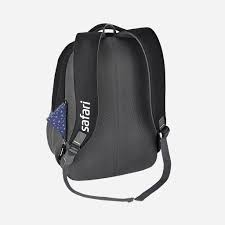backpack: (45, 22, 171, 202)
